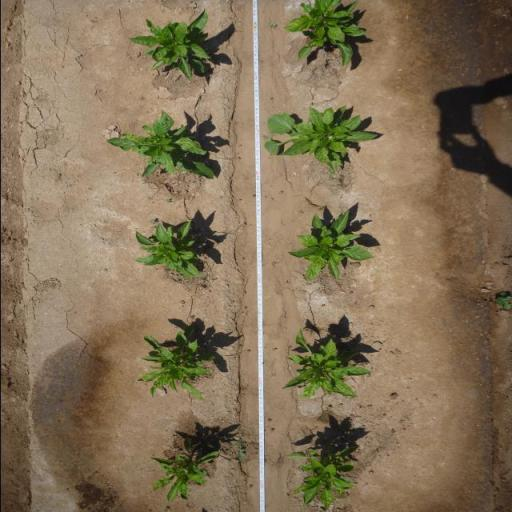plant: (105, 108, 217, 184), (262, 101, 379, 171), (284, 210, 375, 285), (125, 8, 215, 83), (132, 323, 218, 401), (279, 330, 373, 400), (283, 0, 369, 68), (282, 440, 362, 511), (148, 436, 223, 503), (132, 222, 206, 280)
weed: (494, 286, 512, 310), (227, 438, 246, 460), (326, 168, 336, 181), (262, 133, 271, 141), (266, 22, 277, 28), (175, 278, 183, 284), (163, 506, 171, 512), (164, 198, 171, 204), (149, 218, 155, 224), (189, 314, 195, 320), (318, 206, 327, 210), (200, 286, 208, 289), (298, 210, 304, 214), (326, 406, 332, 410), (266, 419, 272, 423), (341, 274, 346, 278), (269, 428, 274, 432), (234, 157, 240, 160), (250, 194, 256, 197), (268, 97, 273, 100), (278, 192, 283, 194)
